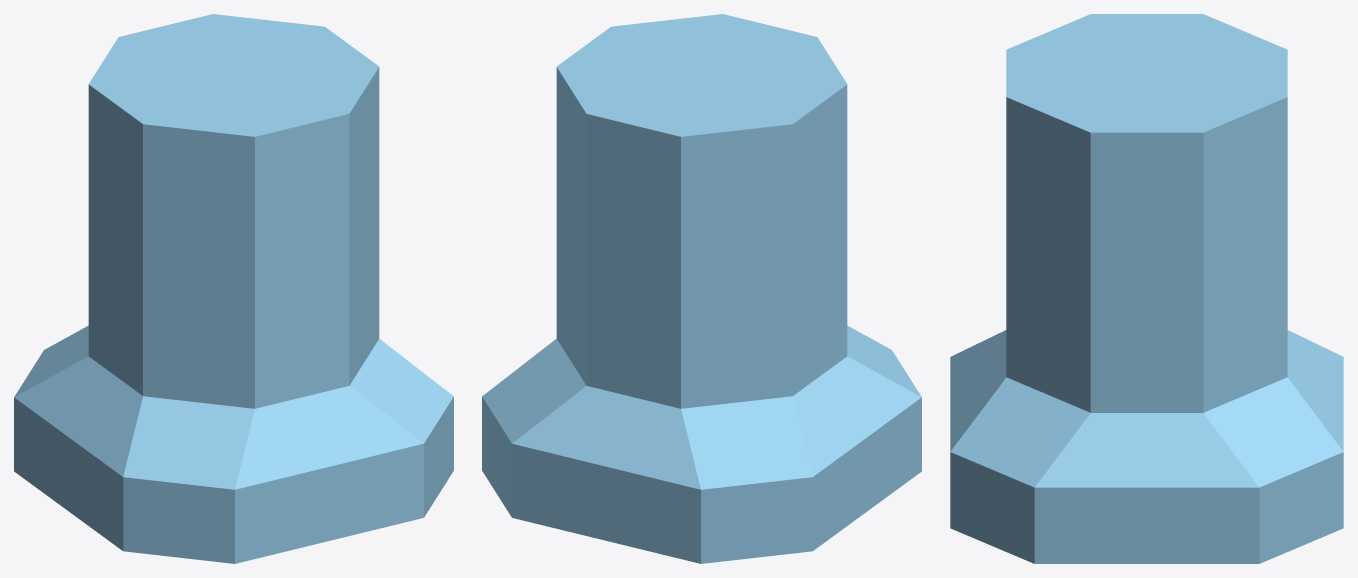
Rendered from crystal_column_base.obj.
3 views of the same model, side by side, from view 1: azimuth 30°, elevation 25°; view 2: azimuth 150°, elevation 25°; view 3: azimuth 270°, elevation 25° (orthographic). The views are drawn at different scales.
Bounding box in the file's own units: 0.875 × 1 × 0.875.
